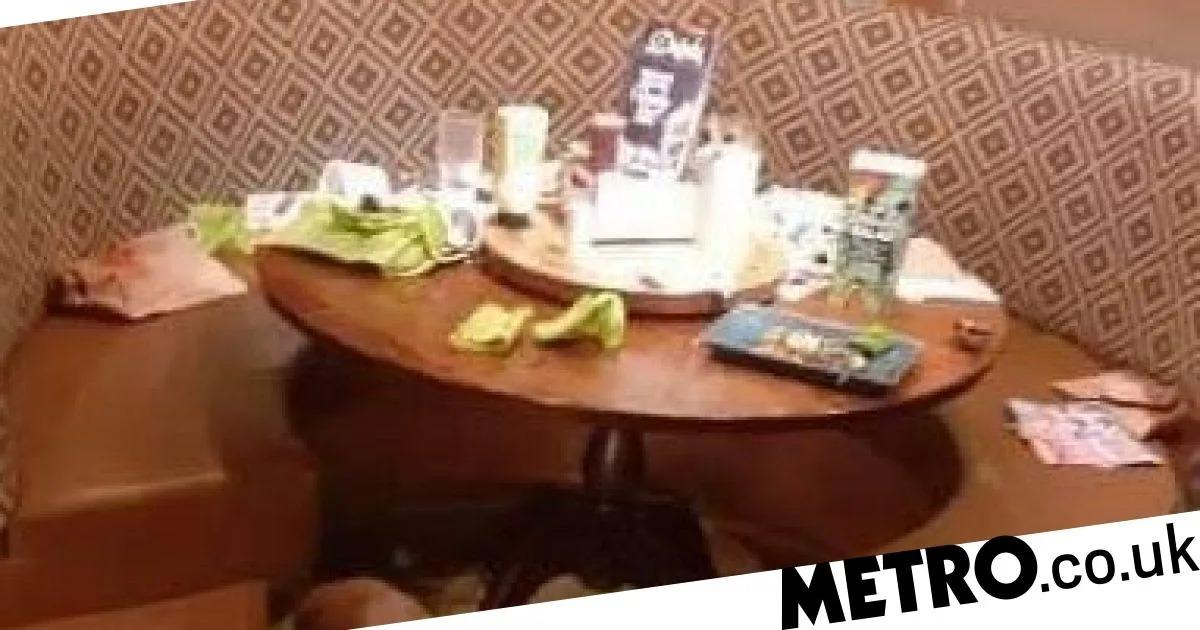Messy Table: (147, 115, 1096, 483)
